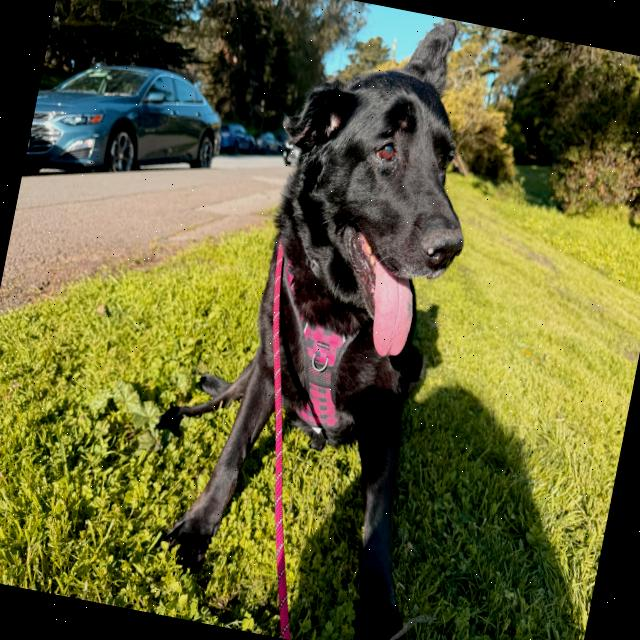labrador_retriever_dog: (232, 0, 517, 377)
